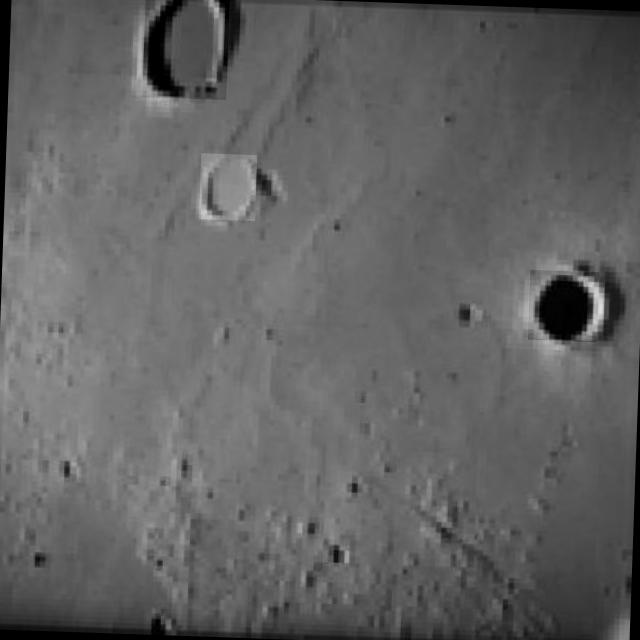crater: (141, 0, 229, 99), (528, 269, 598, 342), (198, 152, 256, 220)
